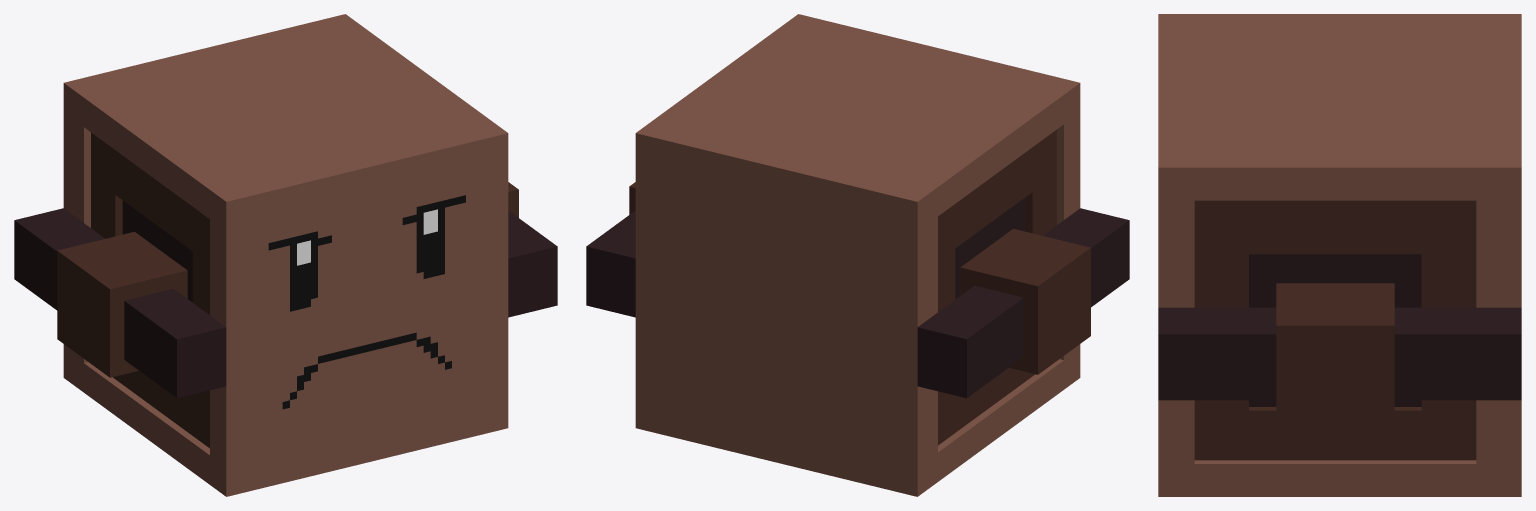
File: WallCharacterObstacleVoxel.obj
The picture shows the model from 3 angles, left to right: view 1: azimuth 30°, elevation 25°; view 2: azimuth 150°, elevation 25°; view 3: azimuth 270°, elevation 25°; orthographic projection. The views are drawn at different scales.
Size of the model in its own units: 5.8 by 4 by 4.
Materials: 1 (1 with a texture image).
